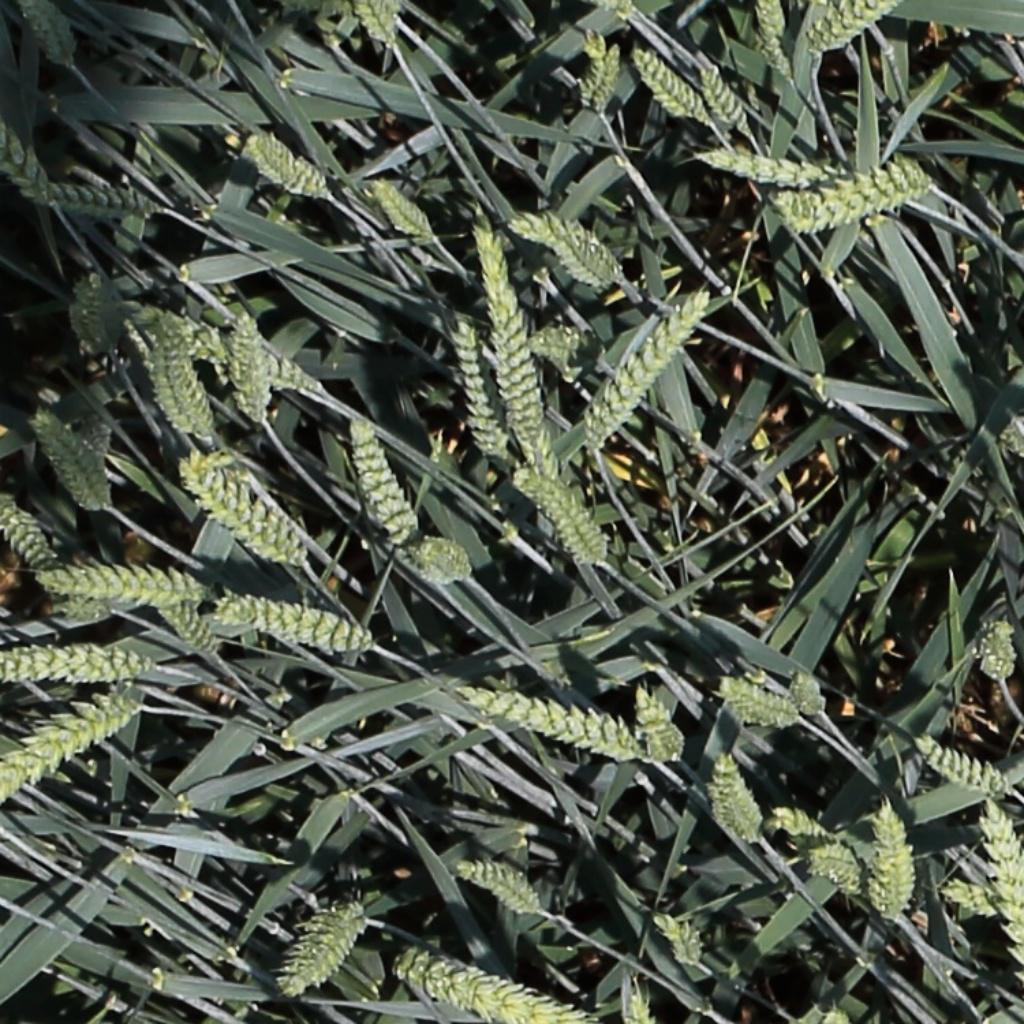0-0: (575, 288, 714, 454), (388, 944, 601, 1024), (471, 226, 550, 441), (0, 700, 144, 810), (181, 450, 308, 571), (768, 154, 938, 238), (203, 588, 376, 656), (456, 692, 638, 756), (342, 415, 421, 548), (140, 313, 216, 441), (275, 899, 372, 998), (514, 467, 610, 564), (35, 559, 218, 607), (450, 314, 510, 460), (978, 798, 1024, 983), (31, 410, 111, 513), (196, 331, 324, 393), (122, 300, 237, 365), (694, 143, 846, 188), (239, 129, 329, 201), (0, 643, 158, 684), (867, 796, 919, 919), (626, 46, 707, 124), (803, 1, 907, 61), (0, 112, 61, 210), (707, 750, 766, 843), (226, 309, 272, 425), (913, 738, 1003, 797), (548, 216, 621, 288), (712, 674, 802, 730), (694, 48, 751, 136), (51, 179, 164, 222), (365, 174, 432, 243), (635, 681, 687, 767), (151, 595, 215, 660), (507, 208, 604, 250), (19, 0, 76, 69), (68, 274, 117, 353), (0, 502, 57, 569), (650, 907, 702, 974), (413, 534, 473, 592), (806, 844, 862, 900), (938, 875, 1001, 921), (515, 425, 562, 482), (488, 869, 545, 914), (977, 617, 1015, 684), (768, 805, 837, 841), (522, 325, 582, 364), (594, 41, 623, 120), (787, 666, 826, 723), (352, 1, 399, 48), (755, 32, 795, 86), (451, 859, 519, 889), (579, 29, 605, 107), (49, 601, 114, 630), (994, 410, 1024, 460), (621, 979, 651, 1023), (754, 0, 787, 39), (585, 0, 642, 20)
